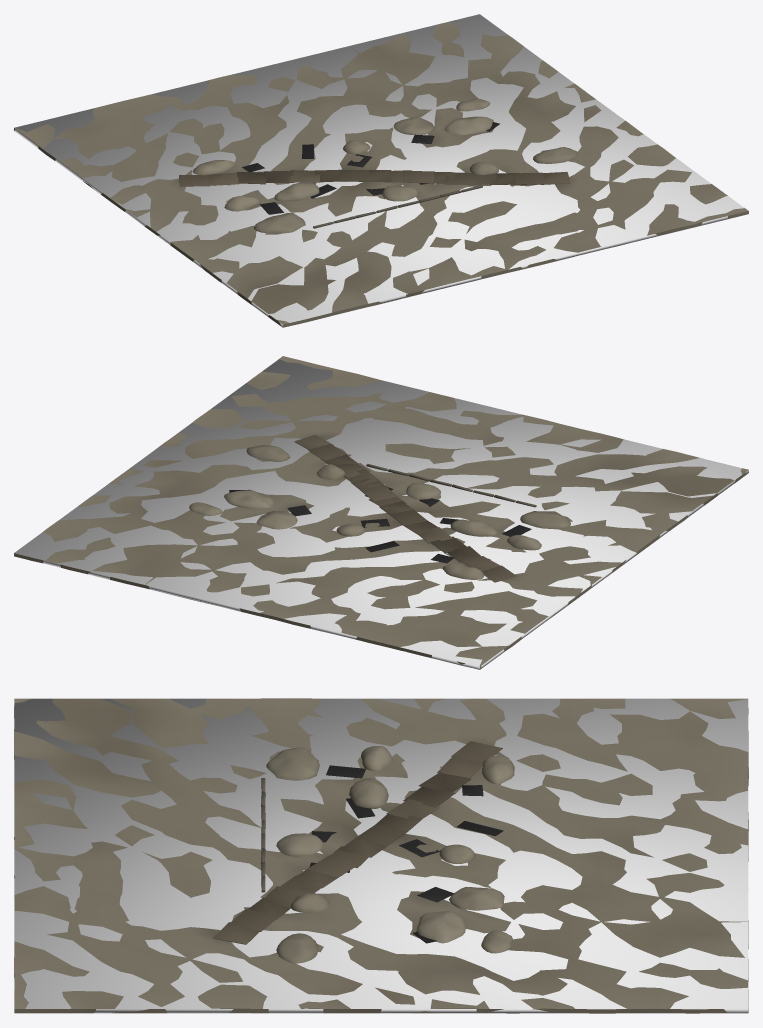
Rendered from suelo_patio.glb.
The picture shows the model from 3 angles, top to bottom: view 1: azimuth 30°, elevation 25°; view 2: azimuth 150°, elevation 25°; view 3: azimuth 270°, elevation 25°; orthographic projection. The views are drawn at different scales.
Visible parts, largest first — view 1: nieve, suelo_patio-colcaja, sendero, montones; view 2: nieve, suelo_patio-colcaja, sendero, montones; view 3: nieve, suelo_patio-colcaja, sendero, montones.
Boxes of the visible parts, box(x1,y1,x2,y2) form: nieve: box(14, 22, 748, 327); suelo_patio-colcaja: box(14, 14, 743, 327); sendero: box(179, 122, 570, 228); montones: box(192, 98, 577, 233); nieve: box(14, 356, 748, 669); suelo_patio-colcaja: box(14, 359, 748, 669); sendero: box(229, 434, 536, 582); montones: box(189, 445, 570, 579); nieve: box(14, 698, 748, 1013); suelo_patio-colcaja: box(14, 698, 748, 1013); sendero: box(213, 741, 503, 944); montones: box(266, 746, 514, 963).
Size of the model in its own units: 46.05 by 1.83 by 46.06.
